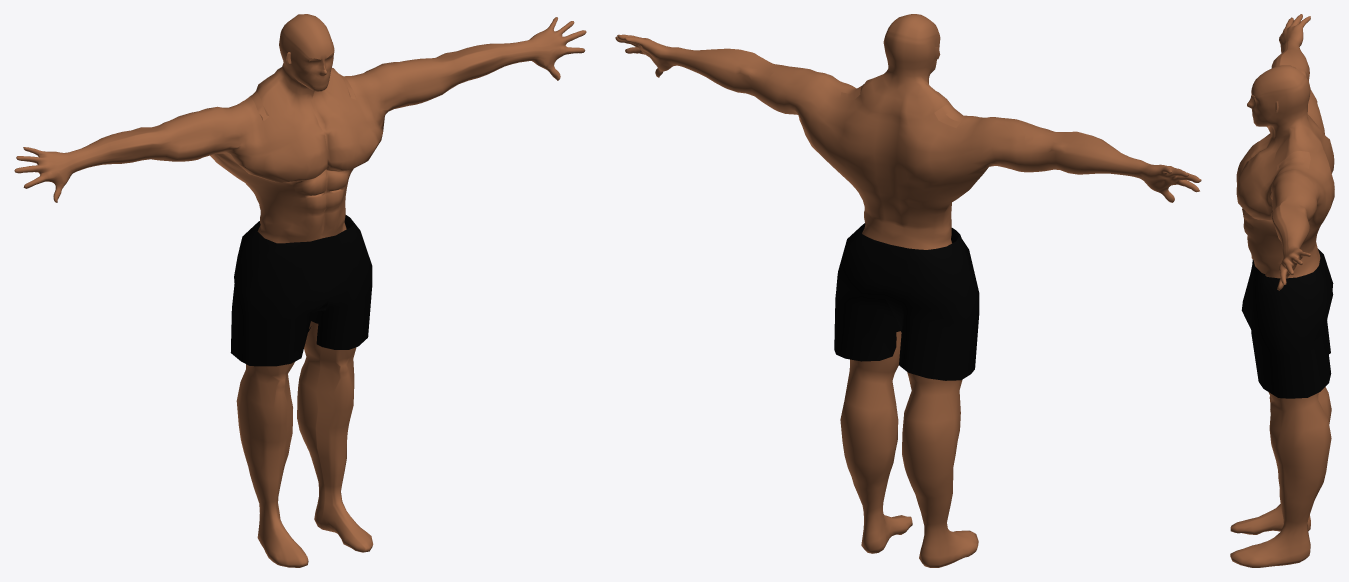
File: Maccho_ugoku.fbx
The picture shows the model from 3 angles, left to right: view 1: azimuth 30°, elevation 25°; view 2: azimuth 150°, elevation 25°; view 3: azimuth 270°, elevation 25°; orthographic projection. The views are drawn at different scales.
Visible parts, largest first — view 1: otoko, pants; view 2: otoko, pants; view 3: otoko, pants.
Boxes of the visible parts, left/top/right/bottom form: otoko: left=14, top=14, right=586, bottom=567; pants: left=230, top=215, right=372, bottom=366; otoko: left=615, top=14, right=1201, bottom=567; pants: left=834, top=223, right=979, bottom=380; otoko: left=1230, top=14, right=1334, bottom=567; pants: left=1241, top=249, right=1333, bottom=398.
Size of the model in its own units: 225 by 198 by 38.99.
